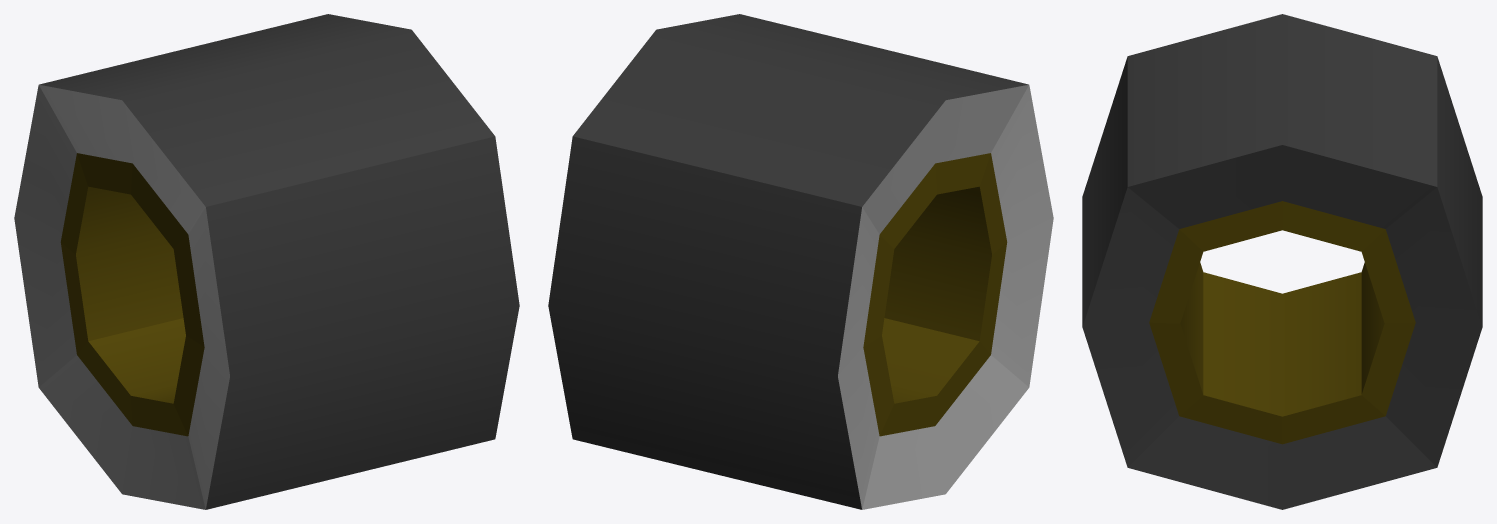
File: DuctTape_Blockout.fbx
The picture shows the model from 3 angles, left to right: view 1: azimuth 30°, elevation 25°; view 2: azimuth 150°, elevation 25°; view 3: azimuth 270°, elevation 25°; orthographic projection. The views are drawn at different scales.
Parts seen in each view (by area): view 1: DuctTape; view 2: DuctTape; view 3: DuctTape.
Part boxes in pixels (x1,y1,x2,y2): DuctTape: (14,14,519,509); DuctTape: (548,14,1053,509); DuctTape: (1082,14,1482,509).
Size of the model in its own units: 16.84 by 21.9 by 21.75.
